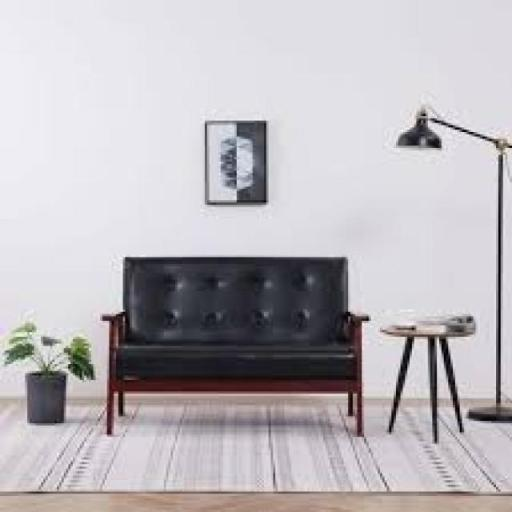sofa: (66, 215, 394, 470)
